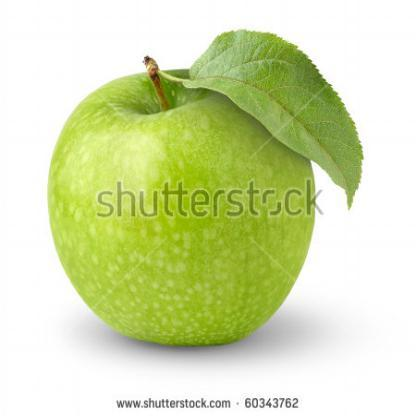Apple leaf: (190, 21, 384, 185)
